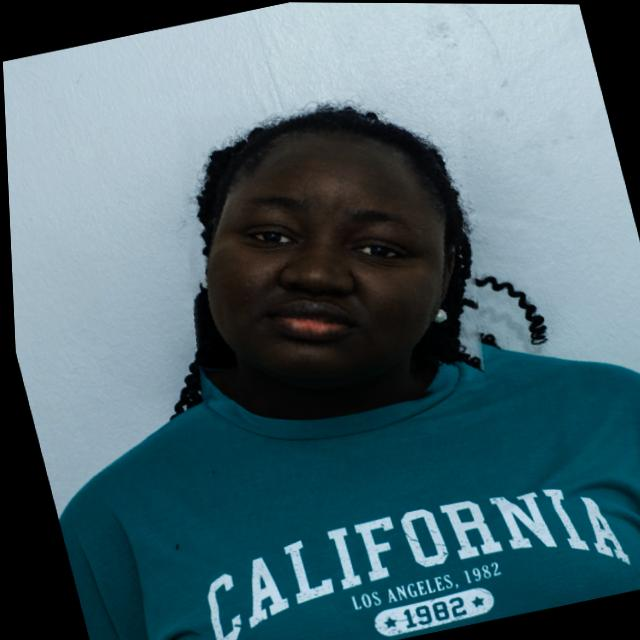sad: (140, 70, 516, 435)
